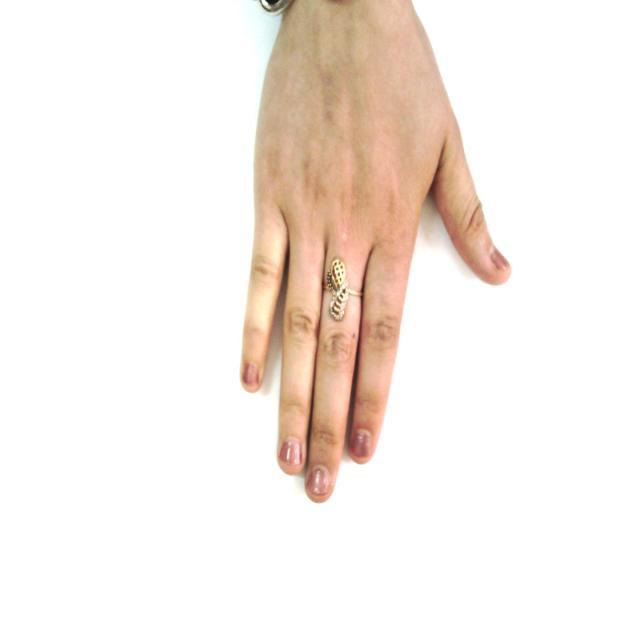Fingernail: (309, 467, 329, 494), (281, 439, 300, 467), (353, 433, 369, 458), (244, 363, 259, 388), (492, 248, 509, 270)
